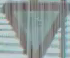Give way: (2, 2, 60, 52)
